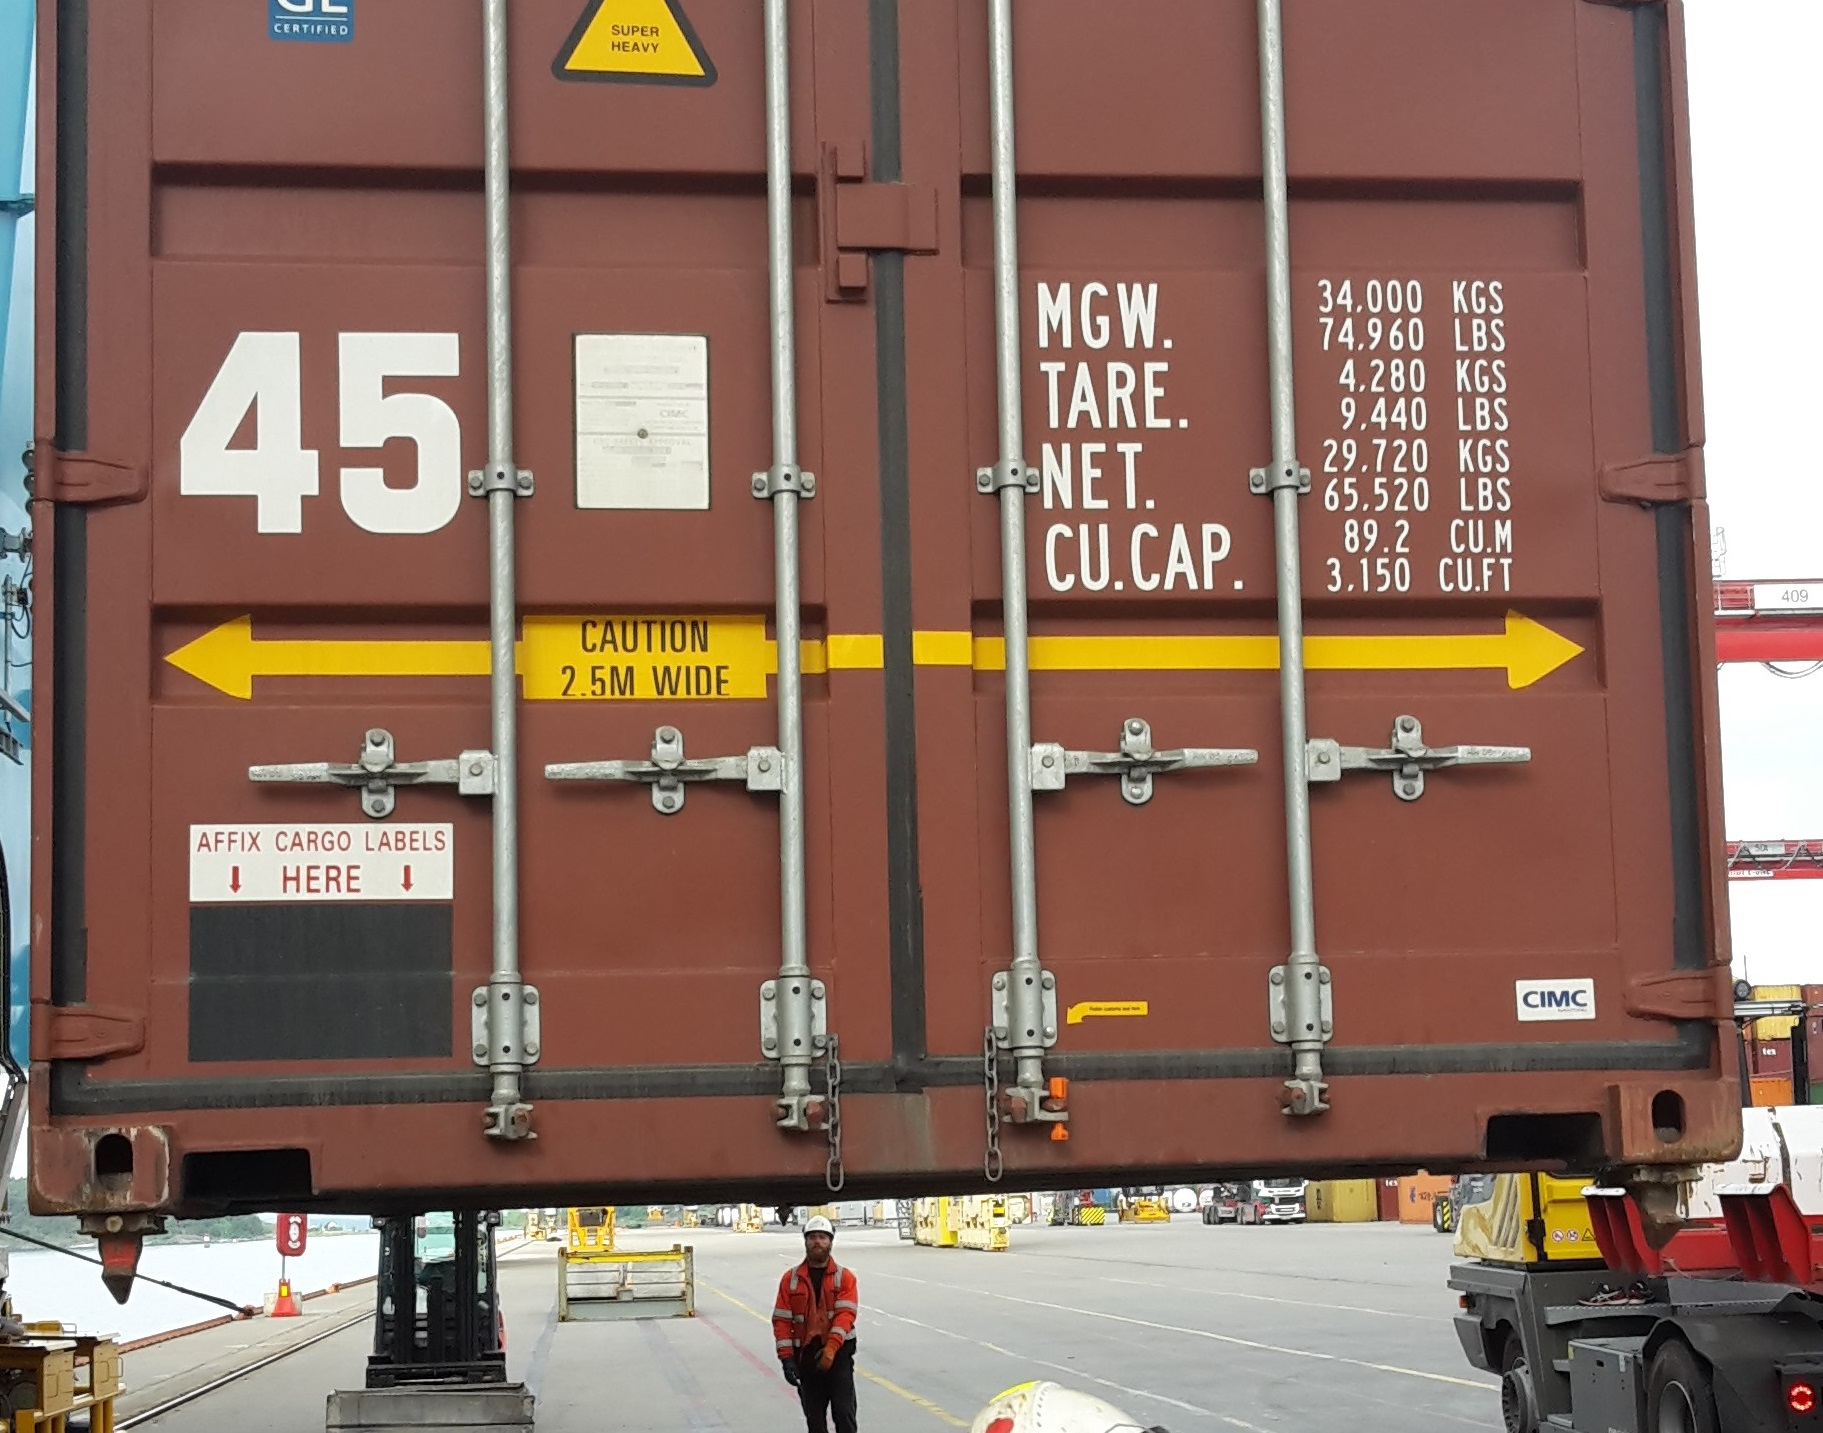container_door: (38, 6, 1733, 1221)
